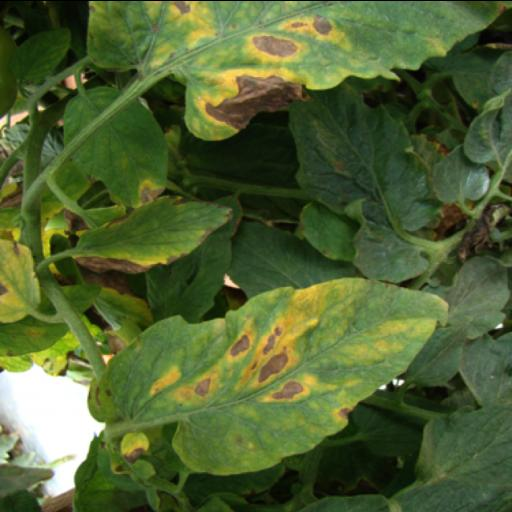Early Blight: (85, 275, 446, 473), (81, 0, 504, 140), (68, 192, 238, 276)
